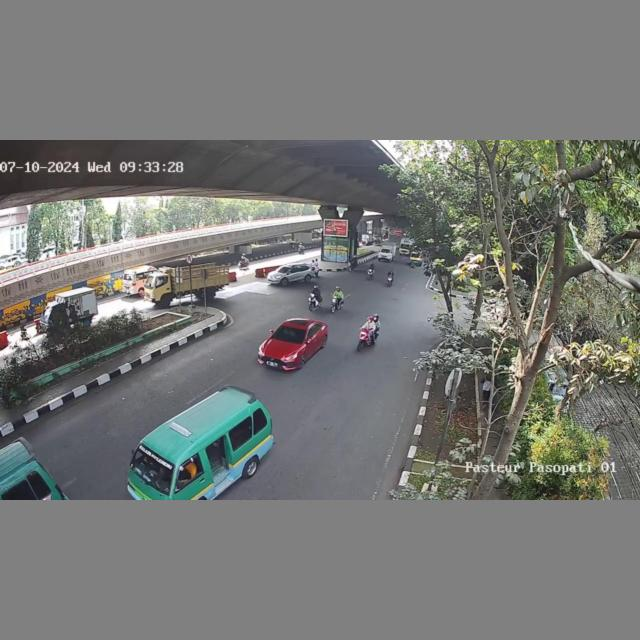windshield: (129, 442, 176, 496), (269, 324, 307, 345)
